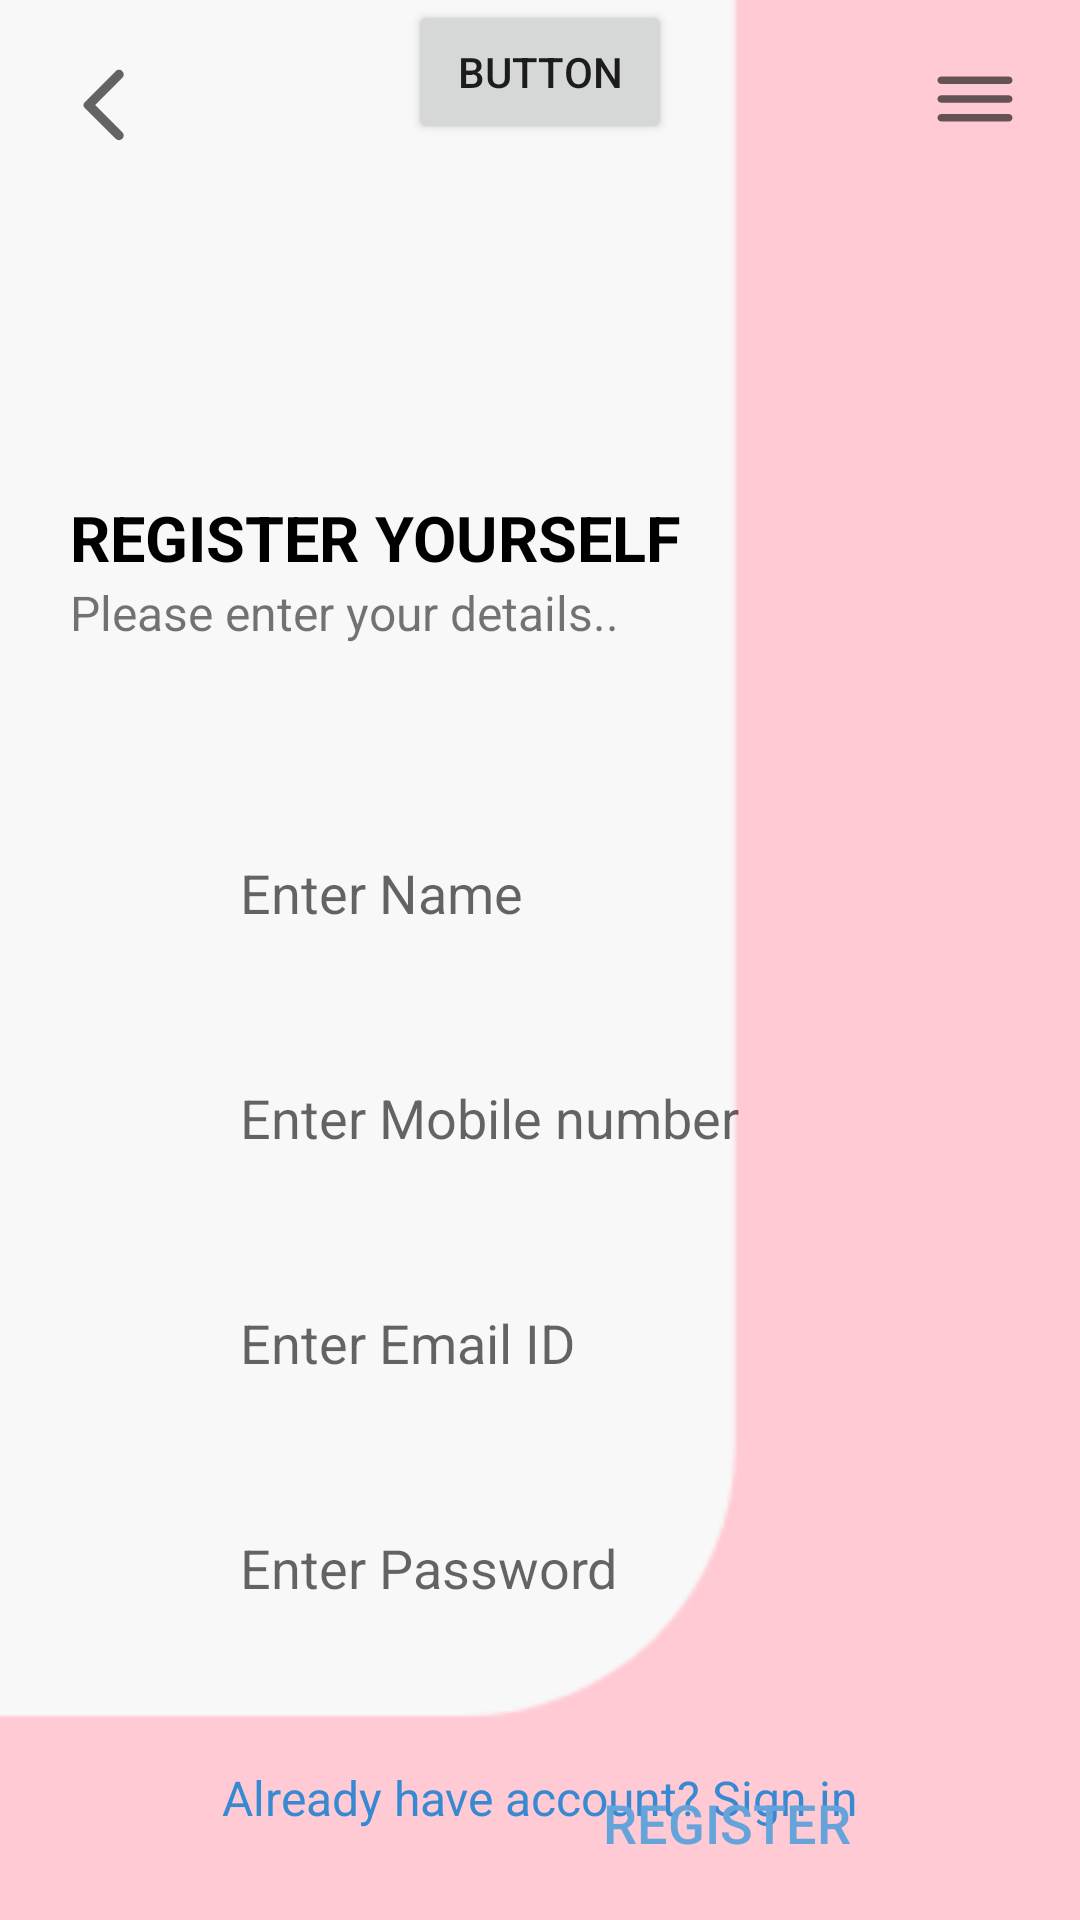

Where to tap for icons on this 1080px×1920px app screen, as (x=x, y=y):
back: (x=103, y=104)
hamberger: (x=975, y=99)
